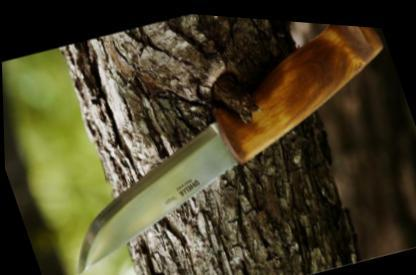knife: (32, 90, 278, 273)
